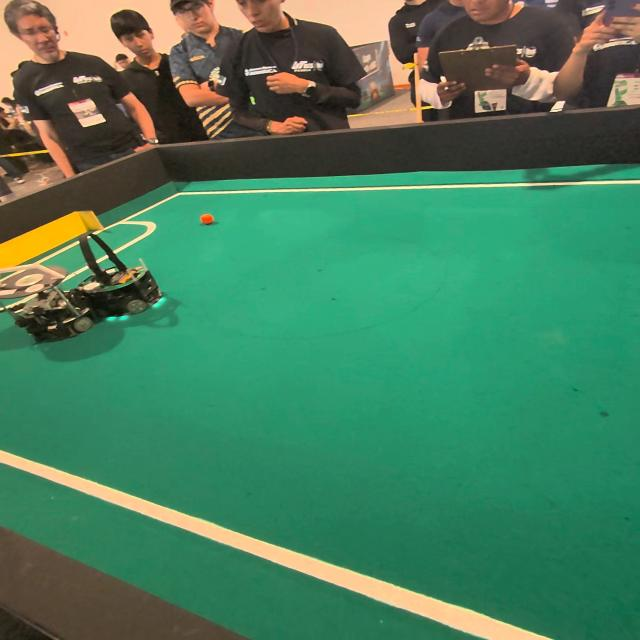Robot: (72, 226, 185, 322), (14, 267, 119, 354)
pelota: (192, 211, 218, 231)
